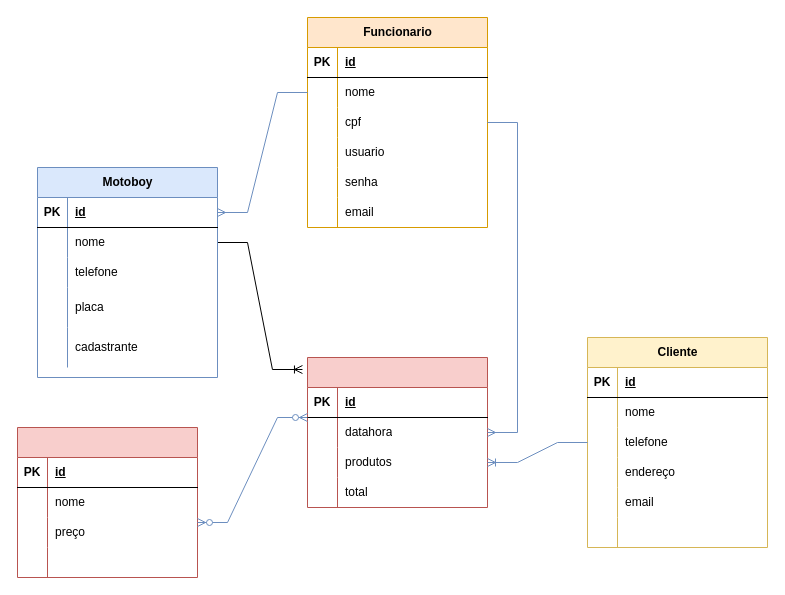
Some shapes in this 785 by 595 pixel diagram are drawn without their labels. The box of each missing label's shape, as (x1, y1, x2, y2) in pixels:
Pedido: (306, 356, 488, 508)
Produto: (16, 426, 198, 578)
